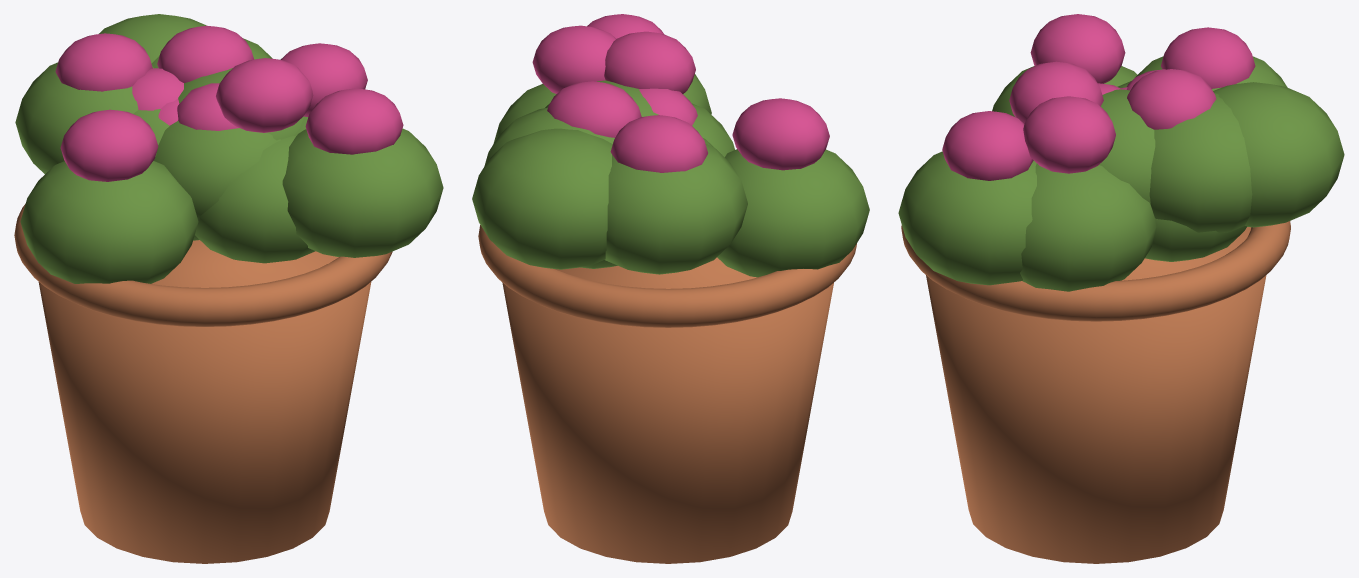
The model's file is flower-urn.glb.
The picture shows the model from 3 angles, left to right: view 1: azimuth 30°, elevation 25°; view 2: azimuth 150°, elevation 25°; view 3: azimuth 270°, elevation 25°; orthographic projection. The views are drawn at different scales.
Parts seen in each view (by area): view 1: Terracotta_urn, Flower_leaves.002, Flower_leaves.004, Urn_lip, Flower_leaves.009, Flower_leaves.008, Flower_leaves.006, Petals.009, Petals.002, Petals.004, Petals.006, Petals.003 (+5 smaller); view 2: Terracotta_urn, Flower_leaves, Urn_lip, Flower_leaves.006, Flower_leaves.002, Petals.002, Petals.009, Petals.006, Petals.011, Petals.003, Flower_leaves.005, Petals.008 (+5 smaller); view 3: Terracotta_urn, Flower_leaves.011, Flower_leaves.004, Urn_lip, Flower_leaves, Flower_leaves.005, Petals.011, Petals.004, Petals.002, Petals.006, Petals.003, Flower_leaves.010 (+4 smaller).
Boxes of the visible parts, x1,y1,x2,y2 form: Terracotta_urn: (38, 240, 371, 563); Flower_leaves.002: (20, 161, 198, 283); Flower_leaves.004: (282, 128, 443, 257); Urn_lip: (14, 204, 392, 326); Flower_leaves.009: (195, 136, 315, 263); Flower_leaves.008: (153, 120, 280, 219); Flower_leaves.006: (15, 62, 153, 173); Petals.009: (216, 58, 313, 132); Petals.002: (60, 109, 158, 181); Petals.004: (305, 88, 403, 154); Petals.006: (55, 33, 152, 91); Petals.003: (157, 25, 253, 82); Terracotta_urn: (502, 257, 833, 563); Flower_leaves: (472, 128, 612, 269); Urn_lip: (478, 225, 856, 327); Flower_leaves.006: (605, 144, 747, 274); Flower_leaves.002: (717, 149, 869, 277); Petals.002: (732, 98, 829, 170); Petals.009: (604, 31, 695, 93); Petals.006: (610, 115, 707, 172); Petals.011: (532, 25, 615, 93); Petals.003: (547, 81, 641, 137); Flower_leaves.005: (484, 107, 614, 166); Petals.008: (639, 88, 697, 125); Terracotta_urn: (926, 227, 1266, 563); Flower_leaves.011: (1020, 163, 1156, 291); Flower_leaves.004: (898, 151, 1036, 285); Urn_lip: (901, 221, 1290, 321); Flower_leaves: (1213, 82, 1344, 227); Flower_leaves.005: (1149, 93, 1252, 233); Petals.011: (1023, 96, 1115, 173); Petals.004: (942, 111, 1033, 180); Petals.002: (1030, 14, 1125, 83); Petals.006: (1161, 27, 1255, 88); Petals.003: (1127, 69, 1216, 129); Flower_leaves.010: (1099, 89, 1155, 204).
Bounding box in the file's own units: 1.16 × 1.4 × 1.22.
